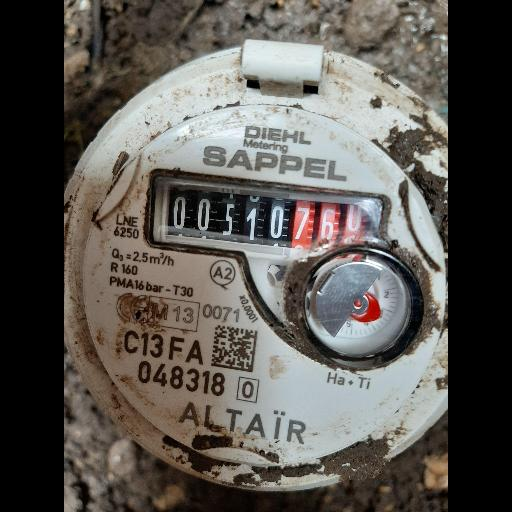0: (166, 187, 194, 237), (192, 190, 218, 239), (267, 197, 291, 248), (342, 203, 366, 244)
1: (241, 194, 267, 245)
5: (216, 192, 242, 242)
6: (316, 201, 341, 253)
7: (291, 199, 316, 251)
border_water_meter_number: (148, 176, 385, 267)
